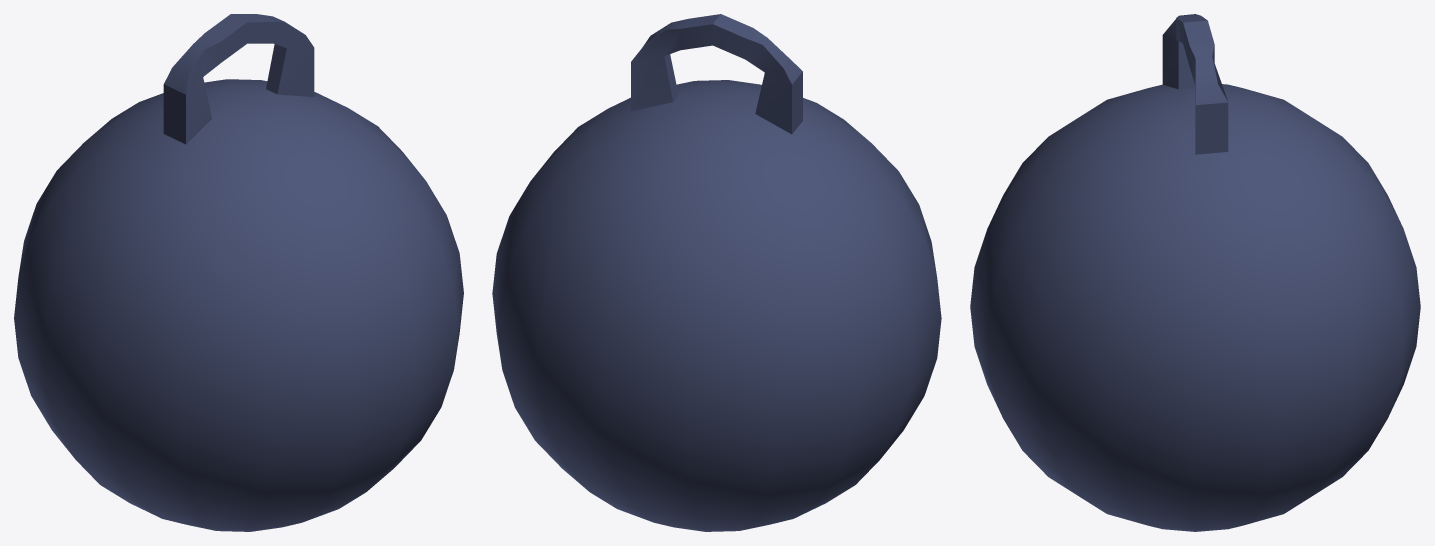
File: 6 kettlebell.fbx
The picture shows the model from 3 angles, left to right: view 1: azimuth 30°, elevation 25°; view 2: azimuth 150°, elevation 25°; view 3: azimuth 270°, elevation 25°; orthographic projection.
Parts seen in each view (by area): view 1: 5 kettlebell; view 2: 5 kettlebell; view 3: 5 kettlebell.
Part boxes in pixels (x1,y1,x2,y2): 5 kettlebell: [14, 14, 463, 531]; 5 kettlebell: [492, 14, 941, 531]; 5 kettlebell: [970, 14, 1420, 531].
Bounding box in the file's own units: 18.7 × 22.42 × 18.7.
